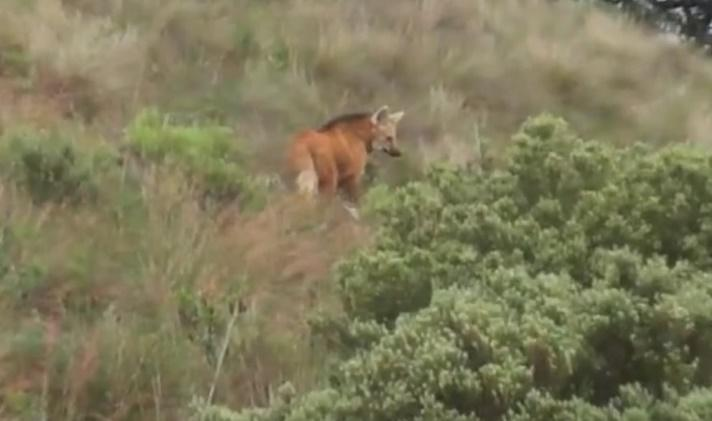LoboGuara: (282, 102, 412, 209)
